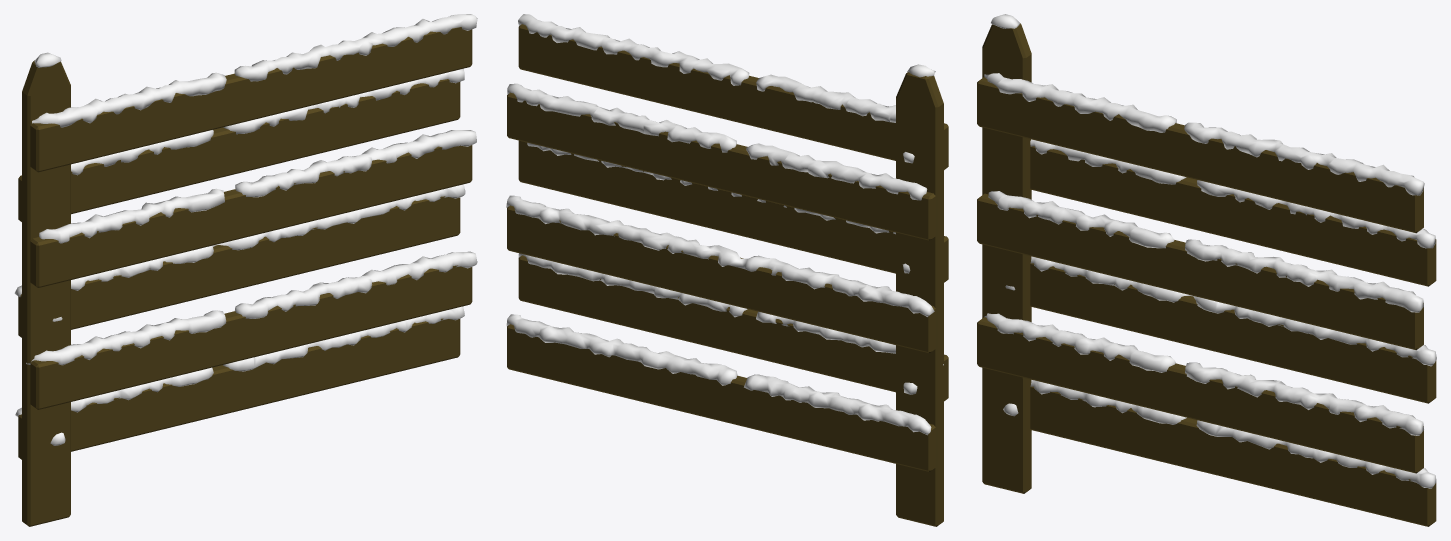
File: pyrobox_fence1_snow.fbx
3 renders of one model, left to right at view 1: azimuth 30°, elevation 25°; view 2: azimuth 150°, elevation 25°; view 3: azimuth 330°, elevation 25°, orthographic. The views are drawn at different scales.
Parts seen in each view (by area): view 1: Cube.006; view 2: Cube.006; view 3: Cube.006.
Boxes of the visible parts, x1=… form: Cube.006: x1=14, y1=14, x2=477, y2=526; Cube.006: x1=506, y1=14, x2=948, y2=526; Cube.006: x1=977, y1=14, x2=1436, y2=526.
Size of the model in its own units: 203 by 204 by 20.56.
